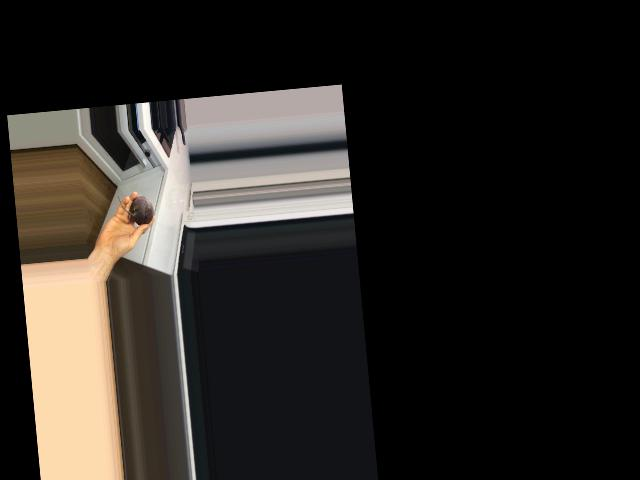beet: (117, 192, 154, 226)
